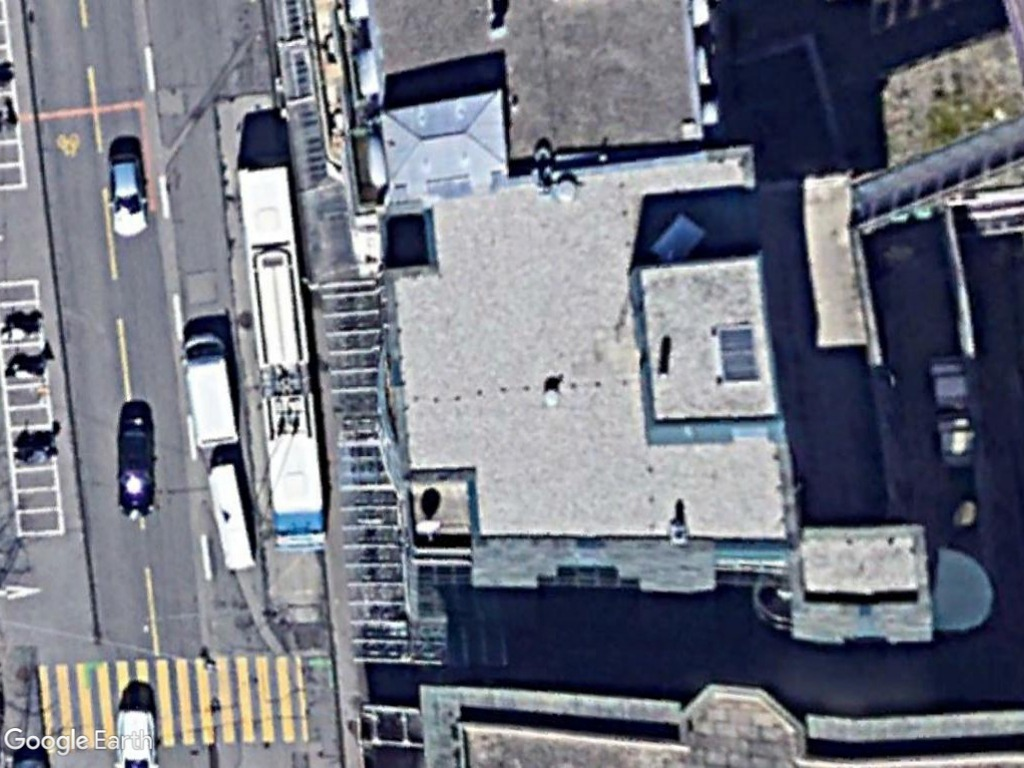car: (104, 149, 150, 244)
van: (179, 330, 243, 456)
